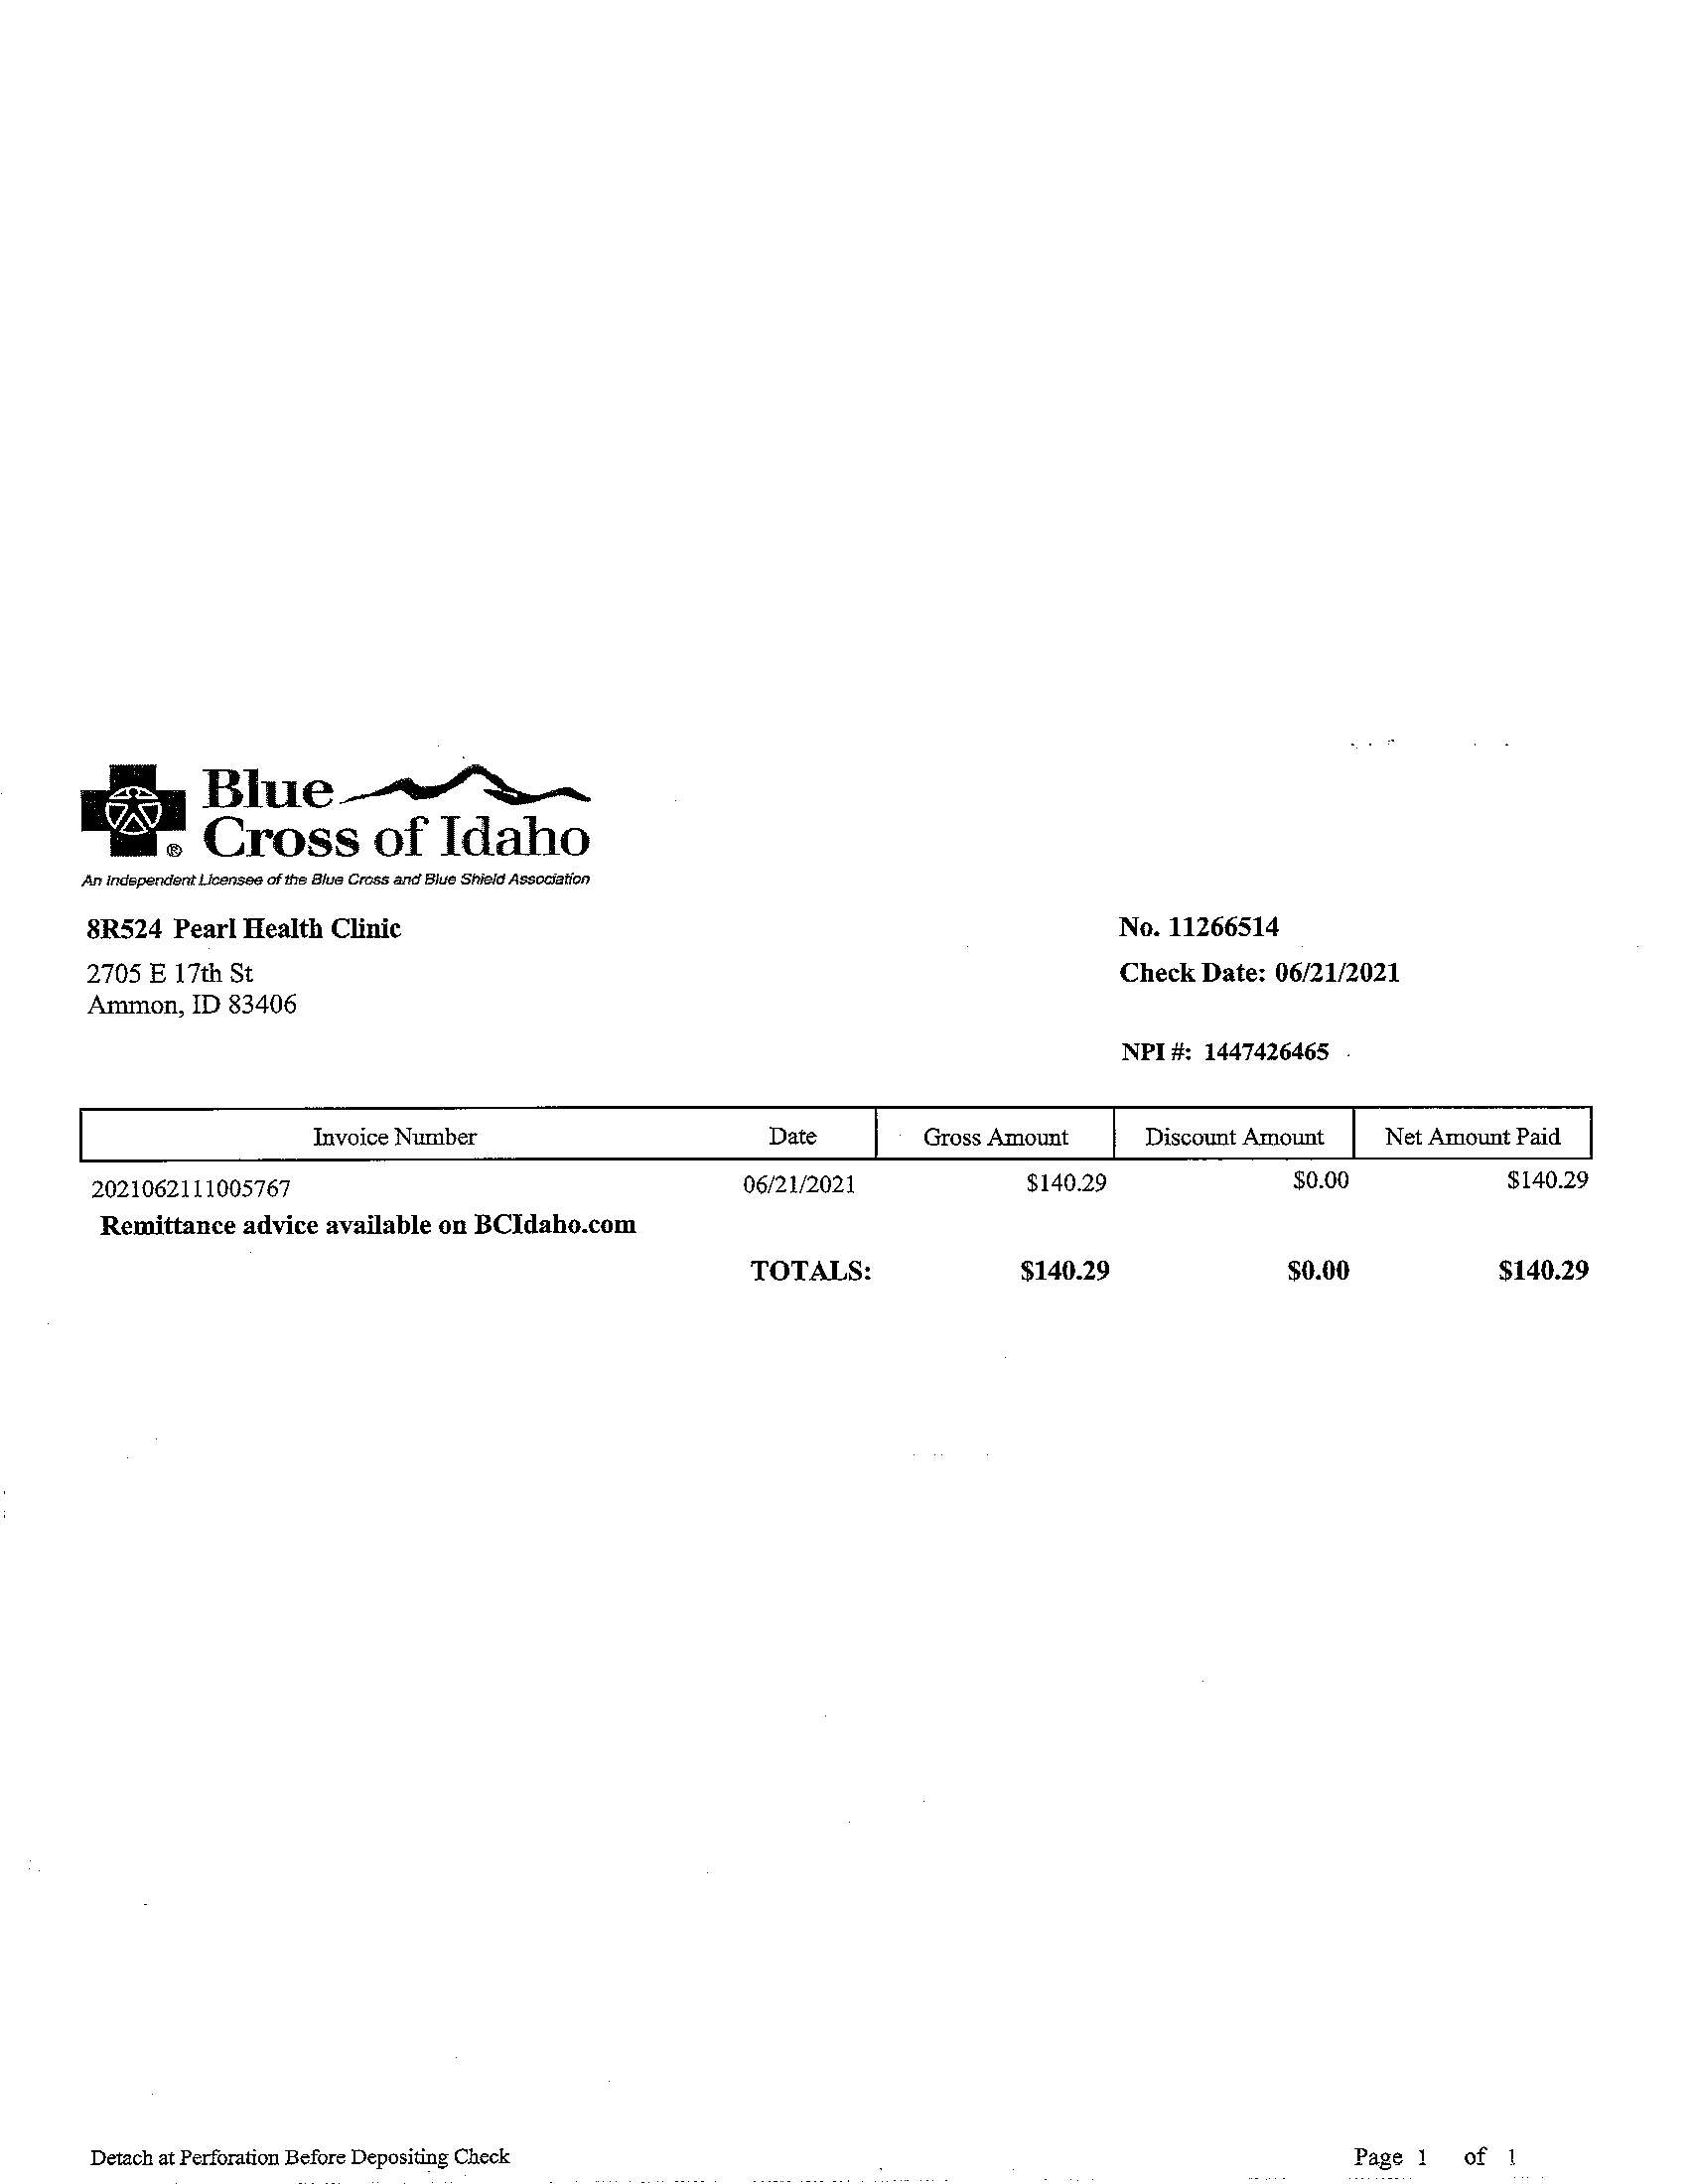data: (1101, 890, 1406, 1071), (80, 899, 443, 1049)
table: (64, 1085, 1612, 1317)
